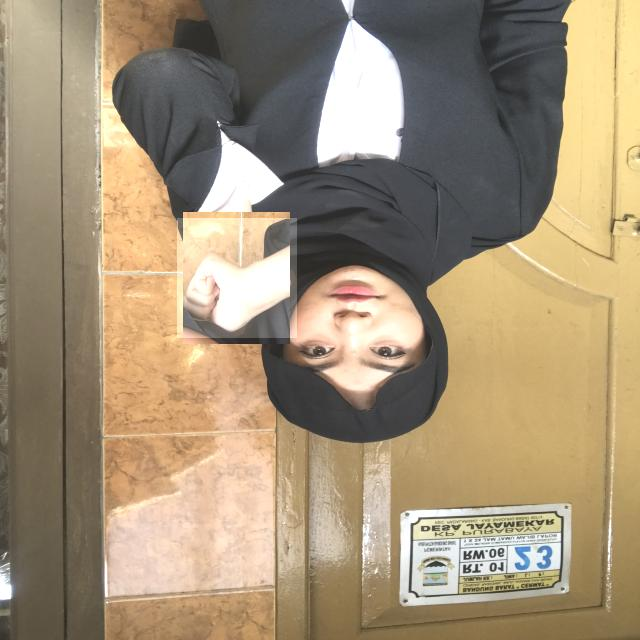ibu: (177, 218, 297, 338)
